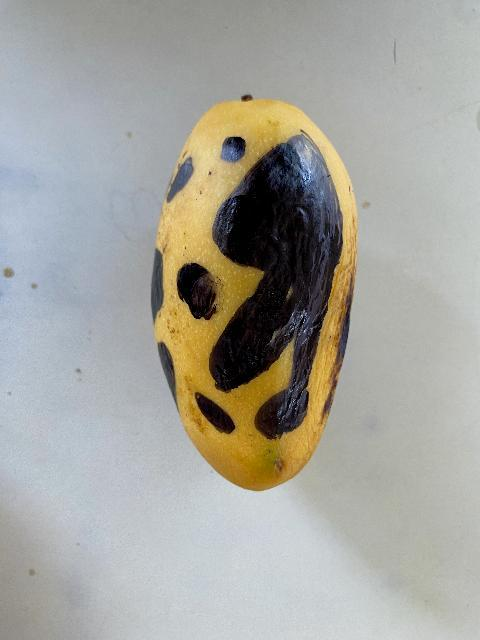Mango Overripe: (120, 43, 372, 525)
